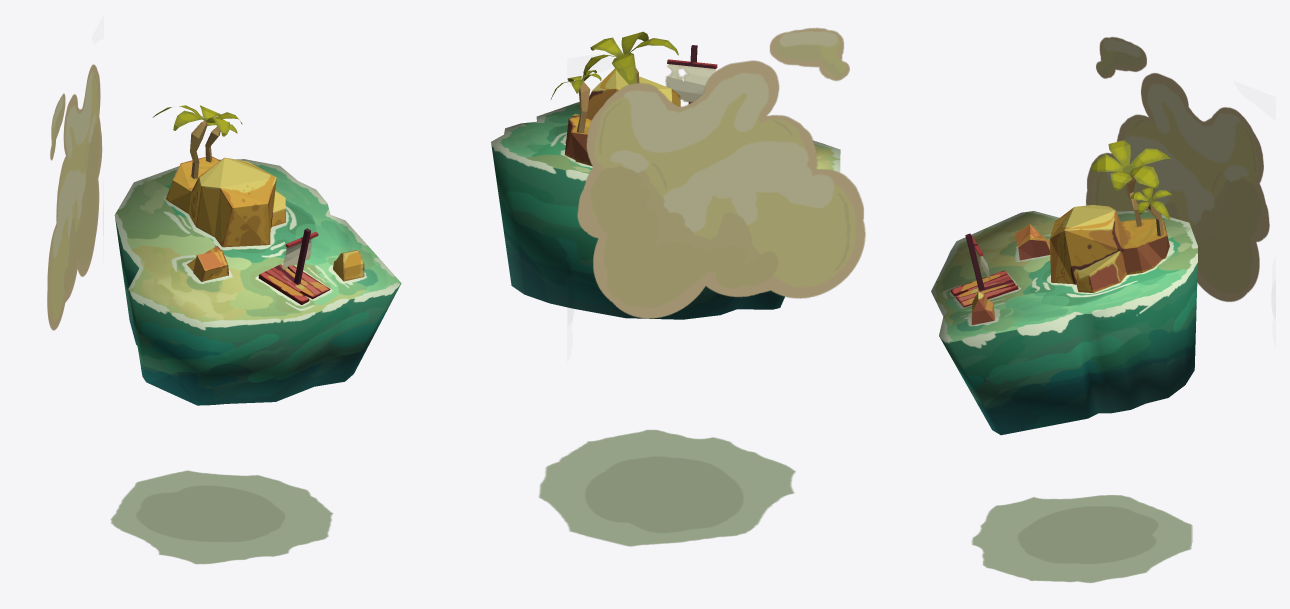
File: Ocean.glb
The picture shows the model from 3 angles, left to right: view 1: azimuth 30°, elevation 25°; view 2: azimuth 150°, elevation 25°; view 3: azimuth 270°, elevation 25°; orthographic projection. The views are drawn at different scales.
Visible parts, largest first — view 1: Plane.000_0; view 2: Plane.000_0; view 3: Plane.000_0.
Boxes of the visible parts, x1,y1,x2,y2 form: Plane.000_0: [47, 64, 401, 564]; Plane.000_0: [491, 27, 865, 546]; Plane.000_0: [931, 37, 1269, 582].
Size of the model in its own units: 21.51 by 29.18 by 21.1.
Materials: 1 (1 with a texture image).
